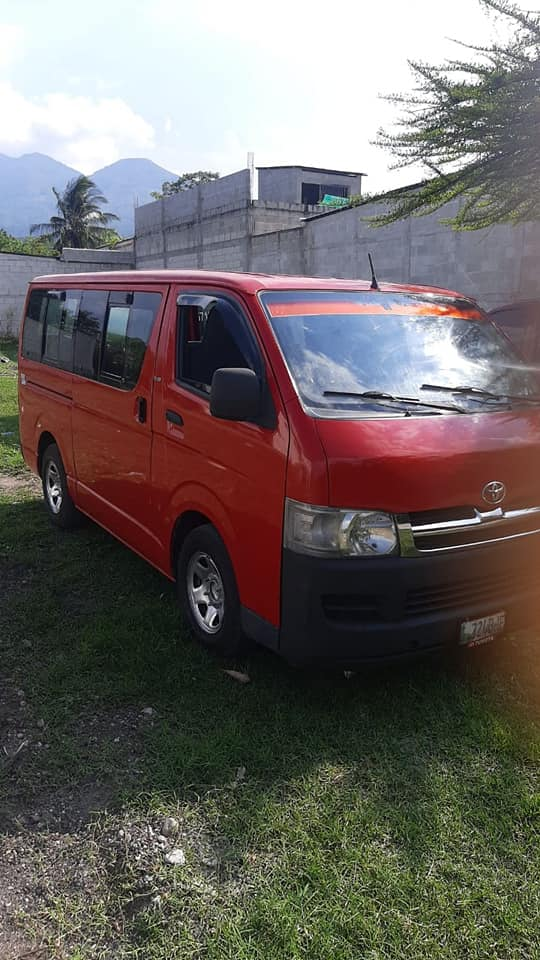bus: (14, 269, 540, 658)
